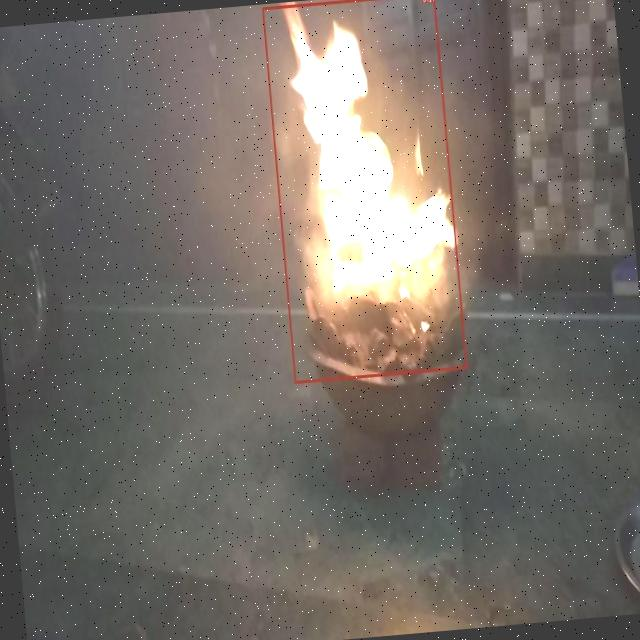fire: (262, 0, 467, 382)
